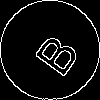B: (25, 25, 82, 79)
